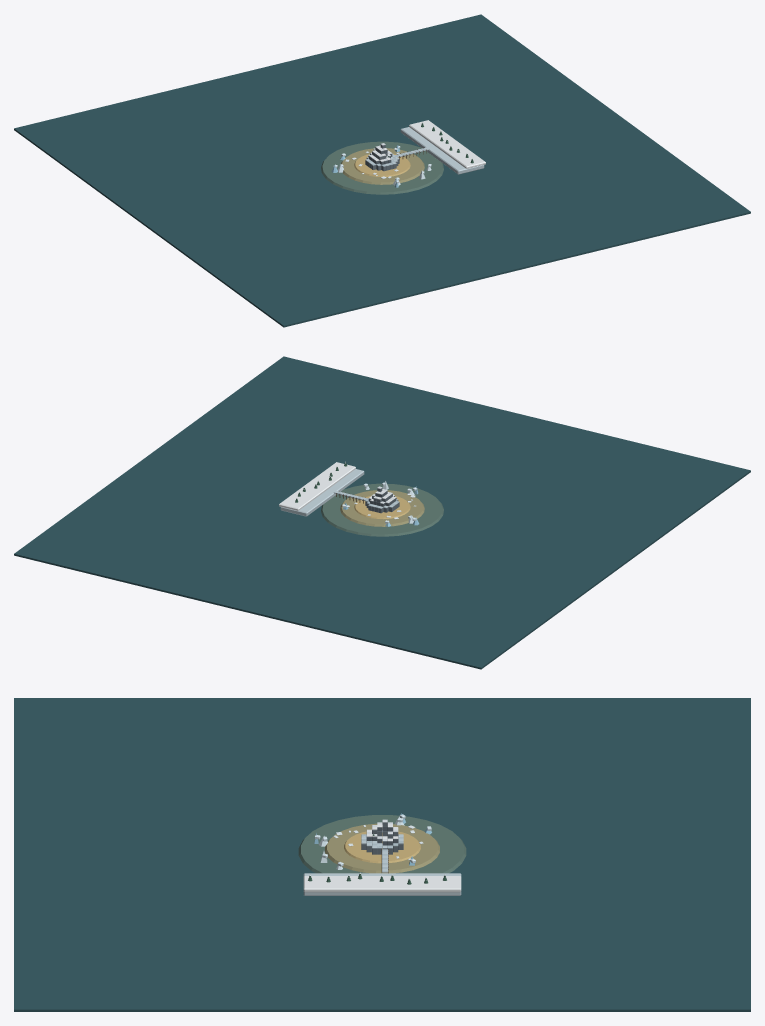
The model's file is island-white-barrow.glb.
3 views of the same model, one above another, from view 1: azimuth 30°, elevation 25°; view 2: azimuth 150°, elevation 25°; view 3: azimuth 270°, elevation 25° (orthographic). The views are drawn at different scales.
Visible parts, largest first — view 1: The White Barrow; view 2: The White Barrow; view 3: The White Barrow.
Boxes of the visible parts, bbox=[...] form: The White Barrow: bbox=[14, 14, 750, 327]; The White Barrow: bbox=[14, 356, 750, 669]; The White Barrow: bbox=[14, 698, 750, 1011].
Bounding box in the file's own units: 140 × 7.72 × 140.
